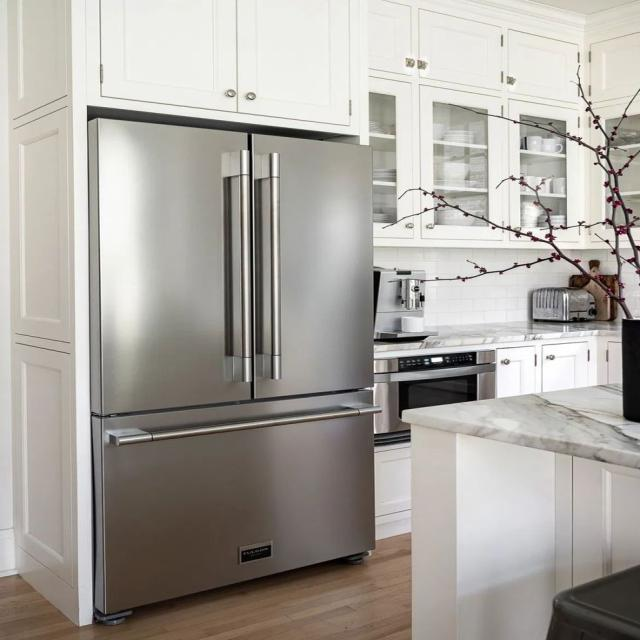obstacle: (86, 116, 380, 625), (401, 382, 639, 639), (86, 0, 362, 138)
